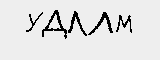Д: (40, 8, 66, 37)
Л: (86, 11, 115, 37), (65, 10, 86, 38)
М: (115, 11, 135, 35)
У: (21, 10, 41, 37)
